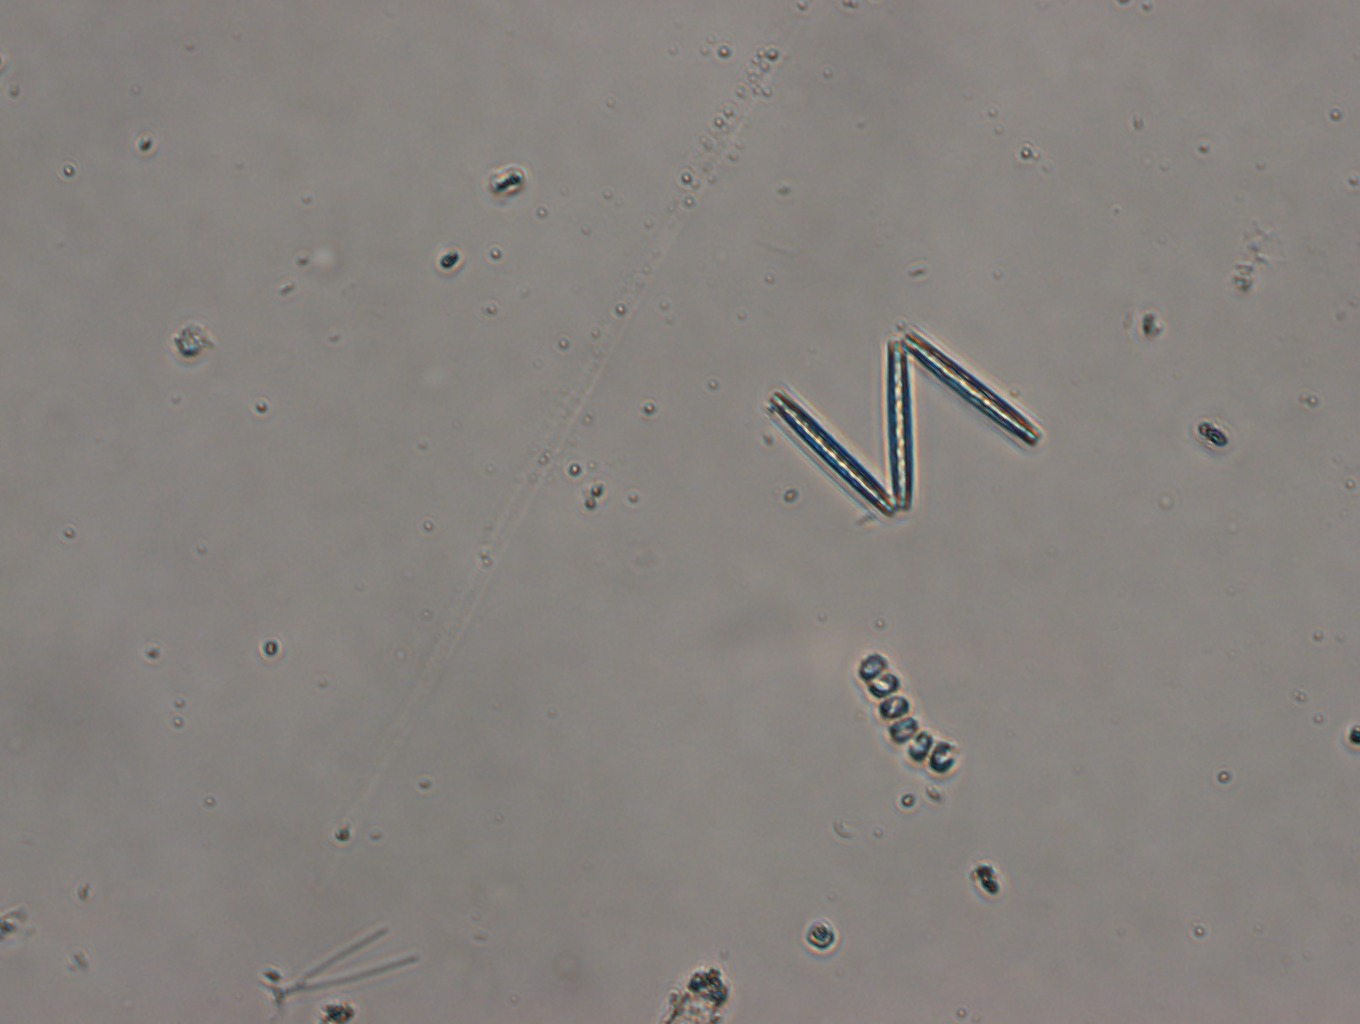skeletonema: (855, 649, 965, 780)
thalassionema nitzschioides: (758, 328, 1041, 518)
